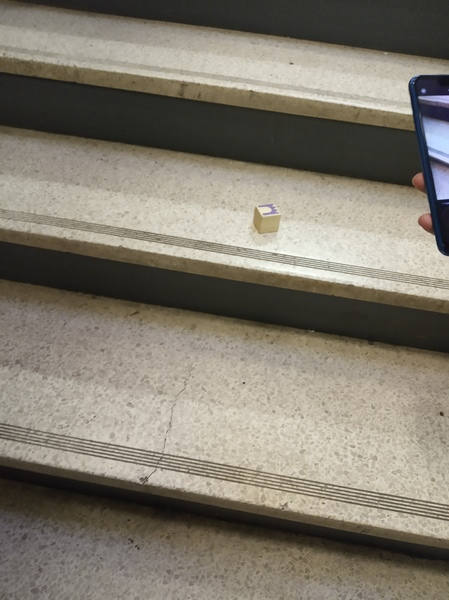violet: (255, 201, 285, 236)
